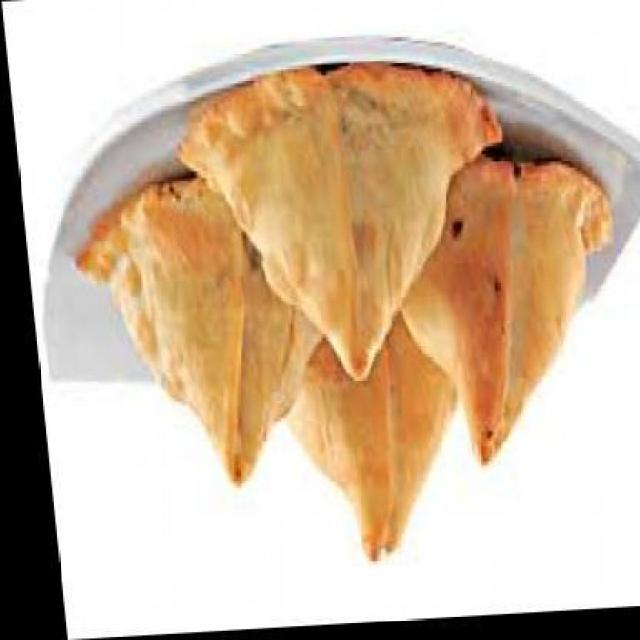samosa: (168, 57, 514, 388), (61, 174, 328, 495), (382, 157, 628, 474), (265, 302, 463, 568)
